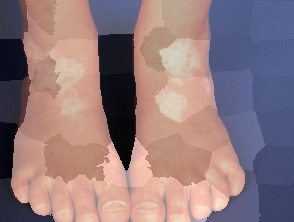vitiligo: (9, 11, 132, 222), (127, 16, 251, 222)
